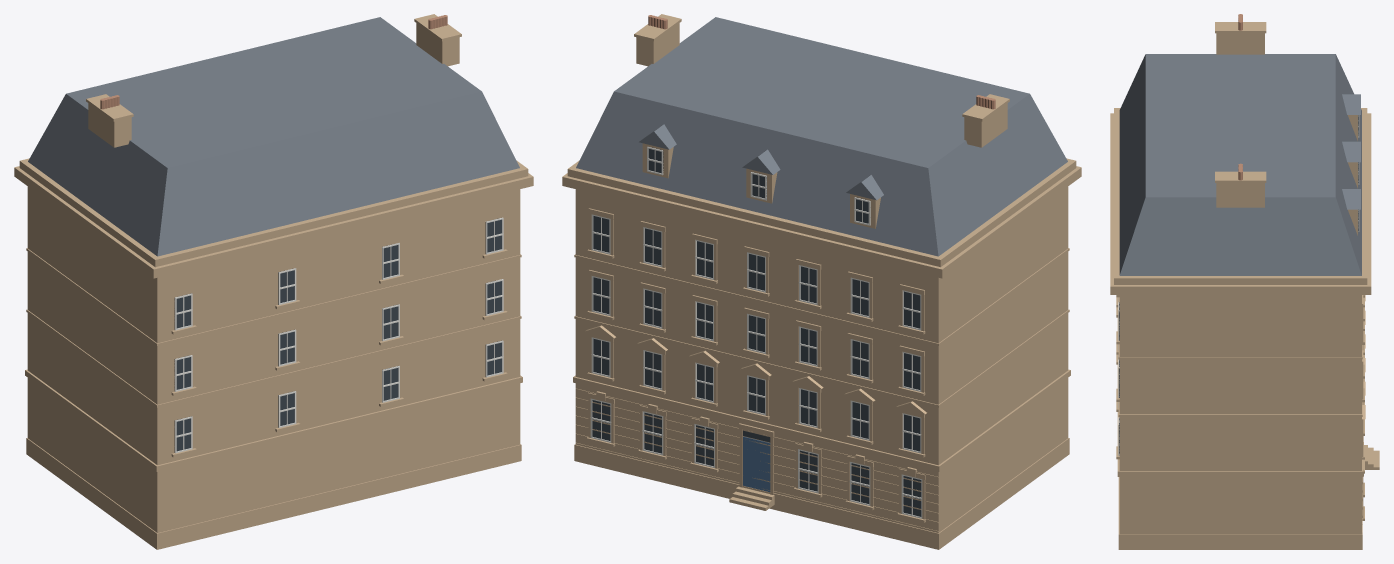
File: classical4.glb
The picture shows the model from 3 angles, left to right: view 1: azimuth 30°, elevation 25°; view 2: azimuth 150°, elevation 25°; view 3: azimuth 270°, elevation 25°; orthographic projection. The views are drawn at different scales.
Visible parts, largest first — view 1: classical4; view 2: classical4; view 3: classical4.
Boxes of the visible parts, x1,y1,x2,y2 form: classical4: (14,14,533,549); classical4: (562,14,1081,549); classical4: (1110,14,1379,549).
Bounding box in the file's own units: 22 × 22.12 × 14.46.
